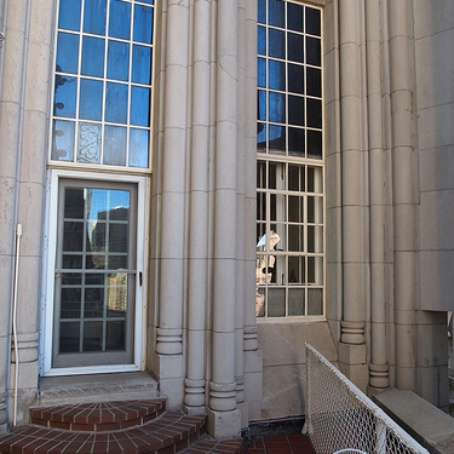building: (11, 1, 431, 404)
door: (43, 174, 153, 374)
window: (256, 1, 331, 323), (44, 1, 160, 167)
